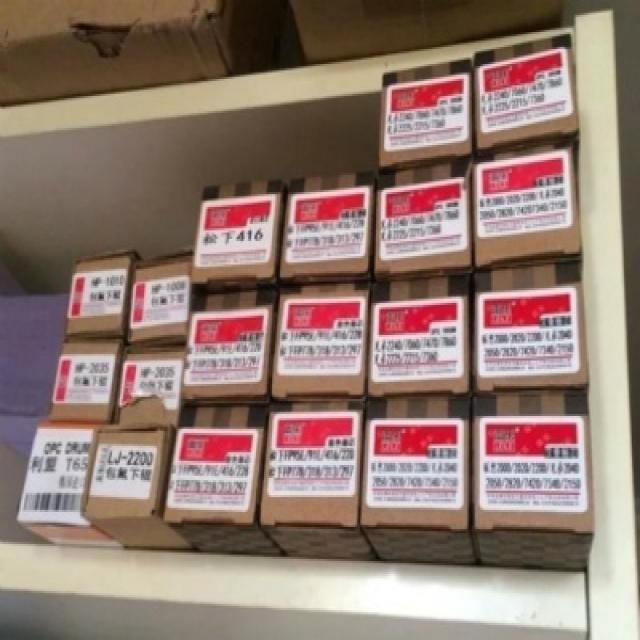box: (469, 386, 595, 572), (361, 396, 475, 566), (161, 400, 283, 557), (258, 397, 375, 560), (471, 262, 586, 394), (18, 417, 128, 551), (472, 143, 582, 273), (85, 426, 196, 551), (473, 32, 579, 157), (366, 273, 472, 397), (372, 158, 474, 281), (180, 288, 281, 402), (271, 283, 371, 398), (279, 173, 374, 287), (378, 59, 472, 170), (192, 178, 283, 286), (128, 251, 195, 347), (49, 339, 126, 421), (64, 252, 135, 338), (111, 346, 187, 426)
